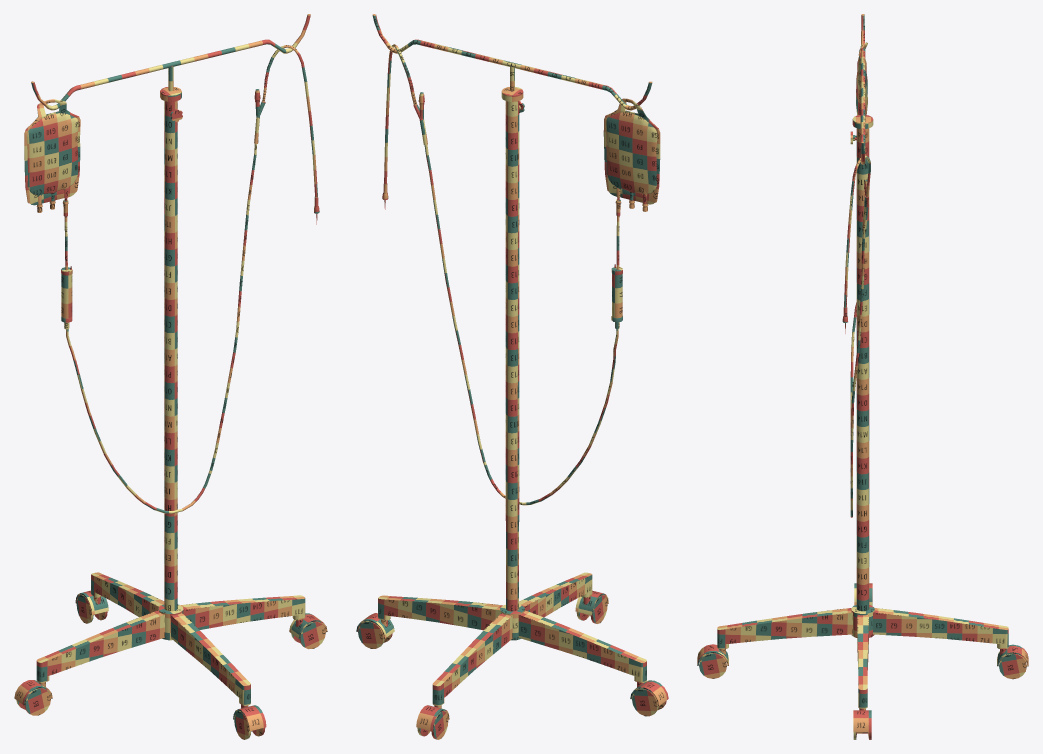
The model's file is SM_BloodIVstand_01a.fbx.
3 renders of one model, left to right at view 1: azimuth 30°, elevation 25°; view 2: azimuth 150°, elevation 25°; view 3: azimuth 270°, elevation 25°, orthographic. The views are drawn at different scales.
Visible parts, largest first — view 1: SM_BloodIVstand_01a; view 2: SM_BloodIVstand_01a; view 3: SM_BloodIVstand_01a.
Boxes of the visible parts, <box> form: SM_BloodIVstand_01a: <box>14,14,327,739</box>; SM_BloodIVstand_01a: <box>356,14,668,739</box>; SM_BloodIVstand_01a: <box>697,14,1028,739</box>.
Size of the model in its own units: 103 by 204 by 103.
Materials: 1 (1 with a texture image).
